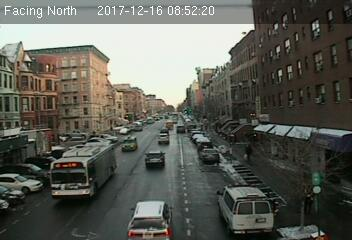bus: (48, 143, 117, 202)
car: (127, 200, 174, 240), (145, 151, 166, 165), (120, 136, 137, 151), (200, 148, 219, 161), (157, 133, 169, 144), (176, 124, 185, 134)
police: (214, 182, 276, 236)
